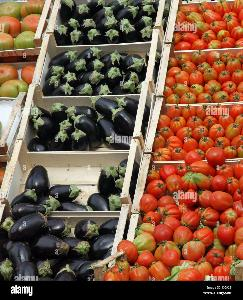eggplant: (9, 149, 128, 209), (9, 209, 106, 272), (27, 96, 139, 148), (42, 43, 148, 95), (54, 1, 158, 42)
tomato: (122, 159, 243, 279), (164, 49, 243, 105), (152, 109, 243, 156), (172, 2, 243, 47), (1, 0, 51, 52), (0, 52, 40, 98)
